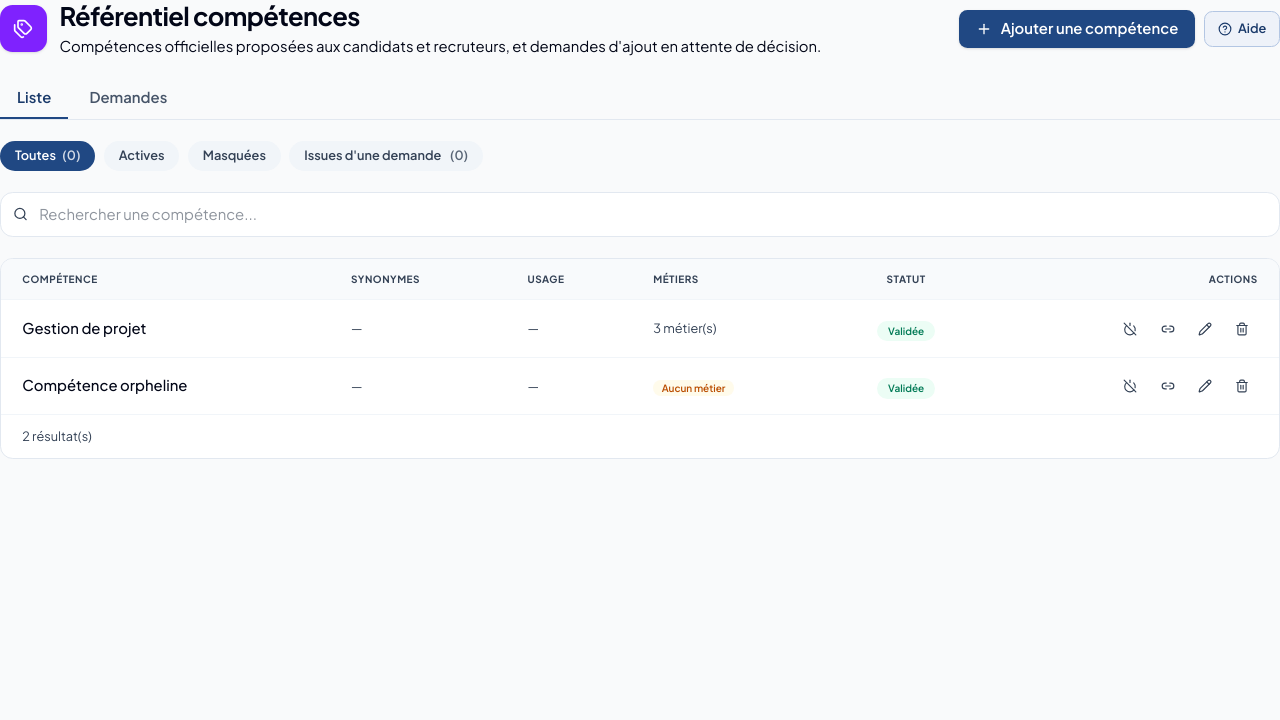
Test: 🏷️ UI & Logique - Composant <AdminCompetences /> › 🟢 HP1 bis : nombre de métiers par compétence et ouverture de la fenêtre « Métiers »
Expected: the text "3 métier(s)" is shown, x1=653 y1=320 x2=717 y2=336
Expected: the text "Aucun métier" is shown, x1=653 y1=380 x2=734 y2=396
Click the button named "Métiers de Gestion de projet": {"x": 1168, "y": 329} x1=1152 y1=313 x2=1183 y2=344
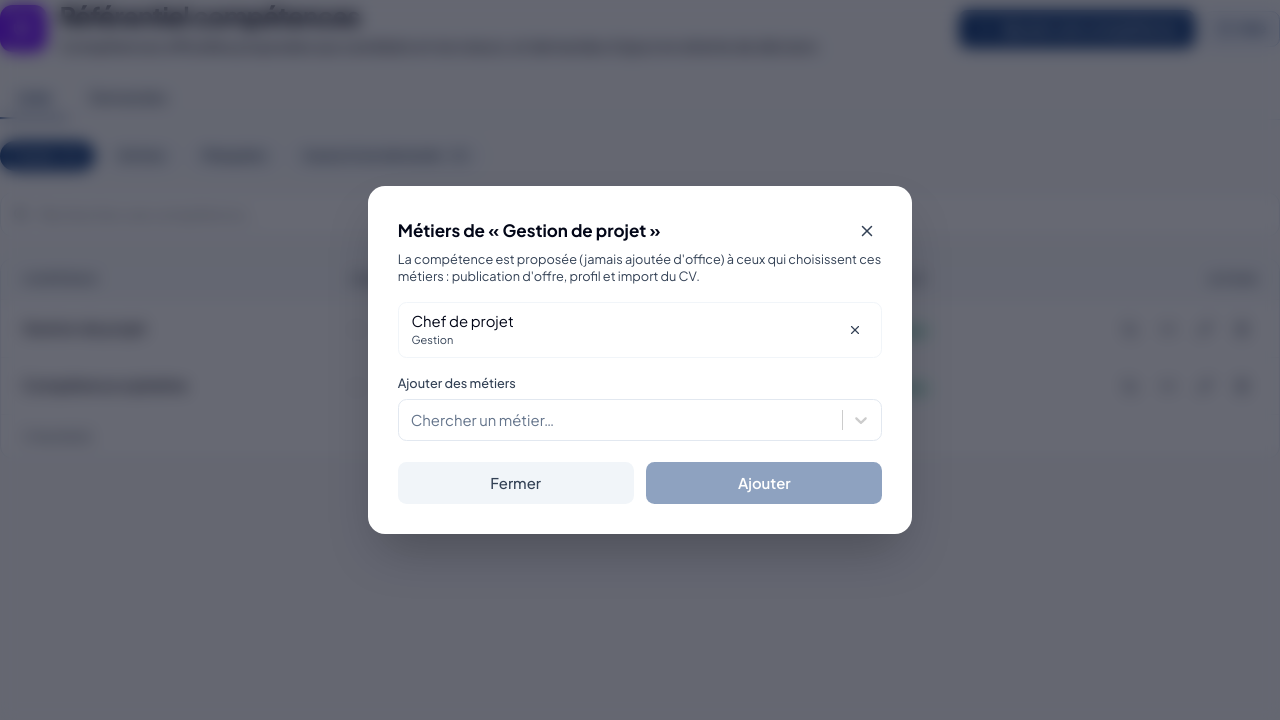
Now the dialog named "Métiers de Gestion de projet" is shown, box x1=368 y1=186 x2=912 y2=534
Now the text "Chef de projet" is shown, box x1=412 y1=311 x2=514 y2=332
